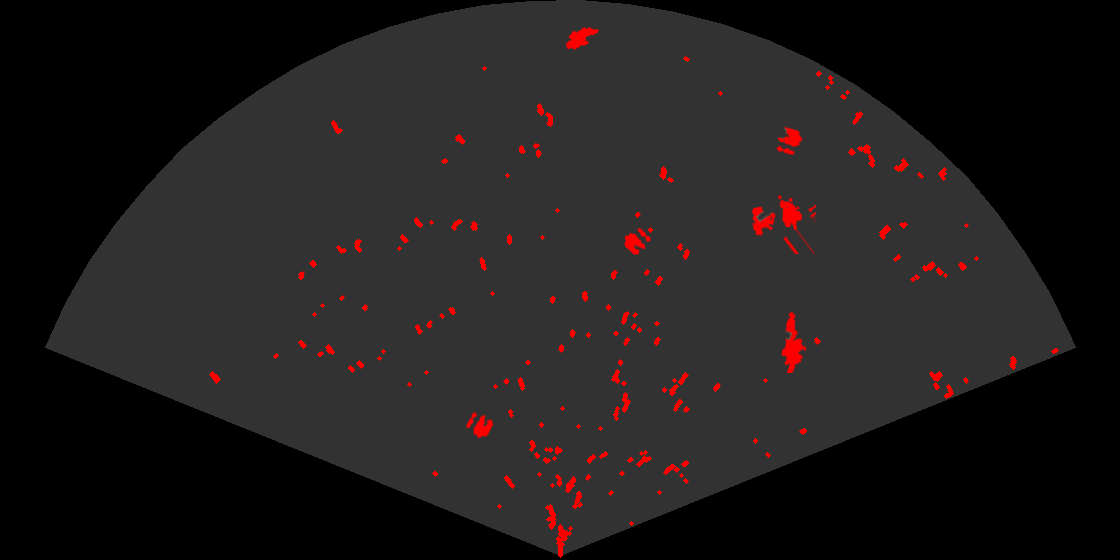AUV: (564, 25, 601, 52)
ball: (775, 125, 804, 157), (465, 411, 495, 440), (623, 227, 652, 256)
cage: (750, 194, 816, 254)
frogman: (780, 310, 808, 373)
